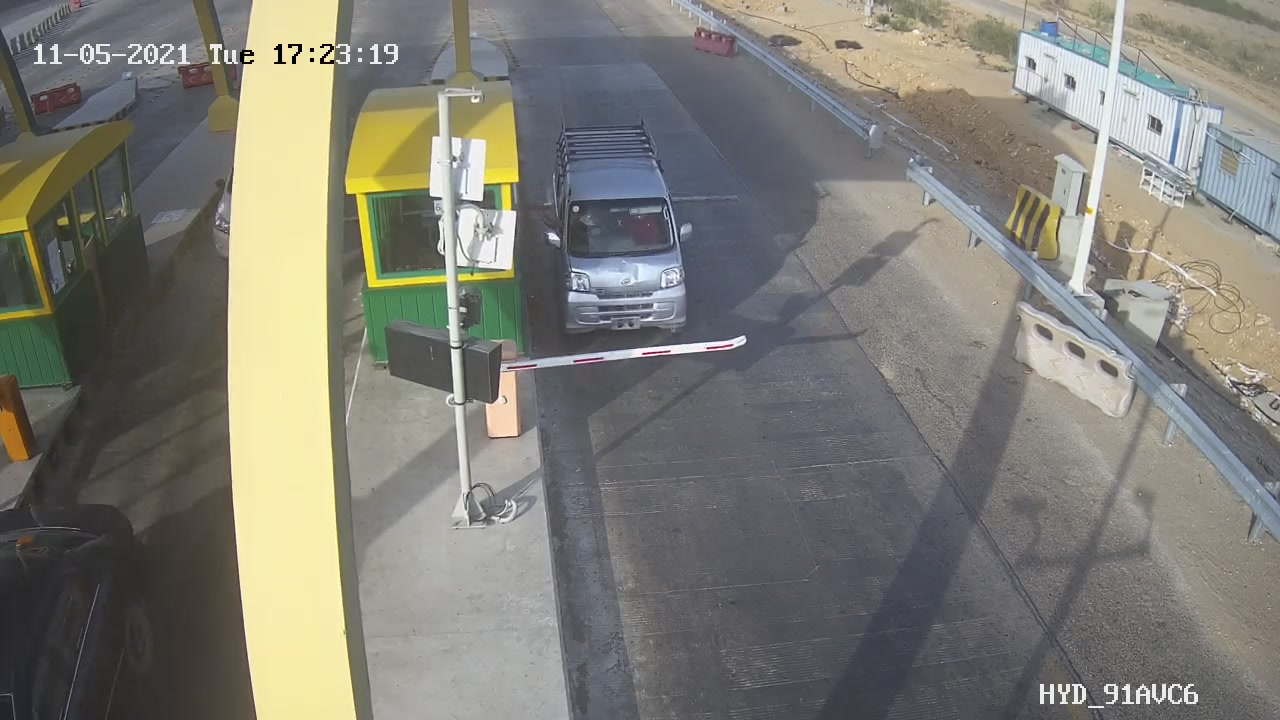F1: (541, 107, 696, 345)
